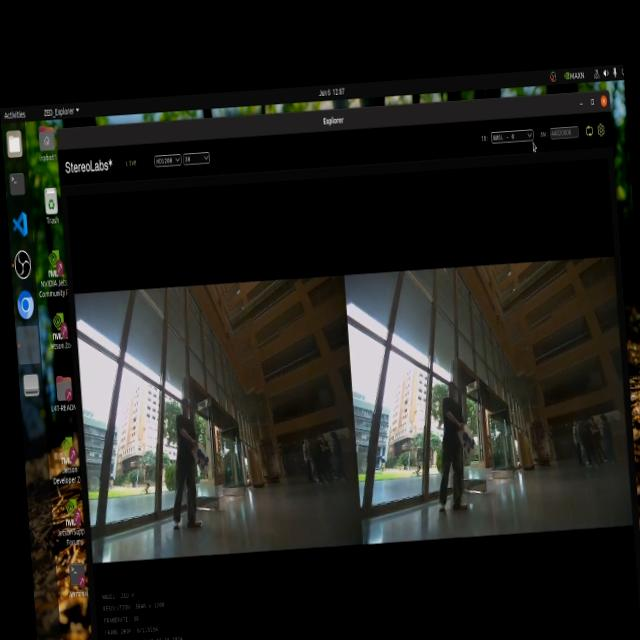blue: (190, 443, 208, 473), (462, 428, 474, 455)
